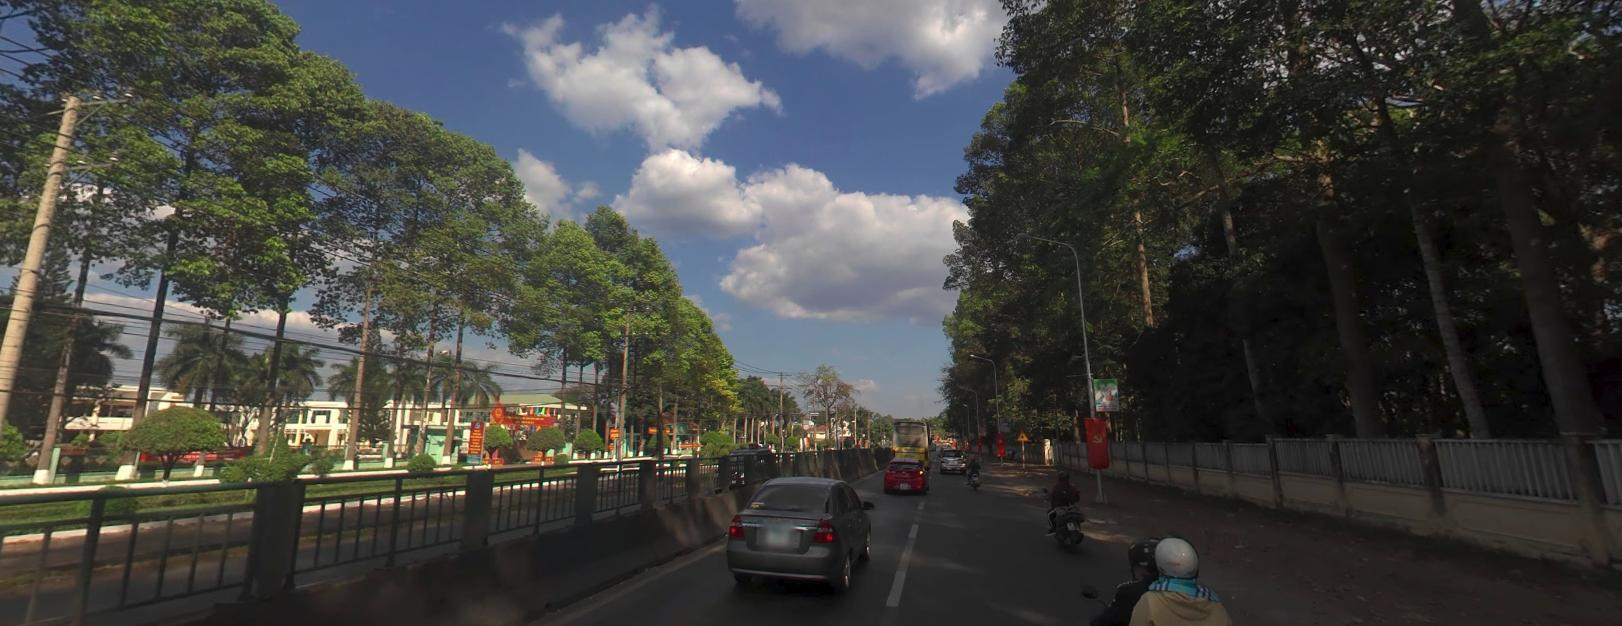Nguy hiem: (1016, 428, 1028, 438)
